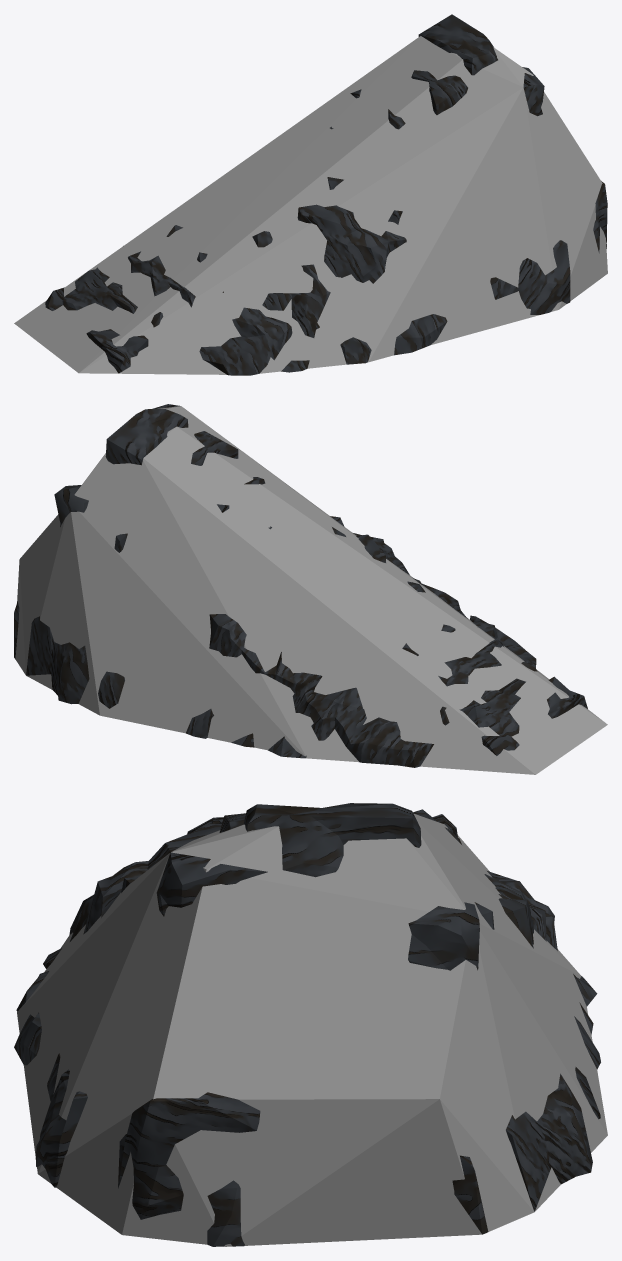
Rendered from Stairs_01.fbx.
3 renders of one model, top to bottom at view 1: azimuth 30°, elevation 25°; view 2: azimuth 150°, elevation 25°; view 3: azimuth 270°, elevation 25°, orthographic. The views are drawn at different scales.
Visible parts, largest first — view 1: StairsRock_A1_COL, StairsRock_A1; view 2: StairsRock_A1_COL, StairsRock_A1; view 3: StairsRock_A1_COL, StairsRock_A1.
Boxes of the visible parts, bbox=[...] form: StairsRock_A1_COL: bbox=[14, 36, 607, 374]; StairsRock_A1: bbox=[45, 14, 607, 375]; StairsRock_A1_COL: bbox=[15, 406, 607, 774]; StairsRock_A1: bbox=[14, 404, 587, 767]; StairsRock_A1_COL: bbox=[17, 814, 607, 1246]; StairsRock_A1: bbox=[14, 803, 600, 1246].
Size of the model in its own units: 12.43 by 4.95 by 7.36.
